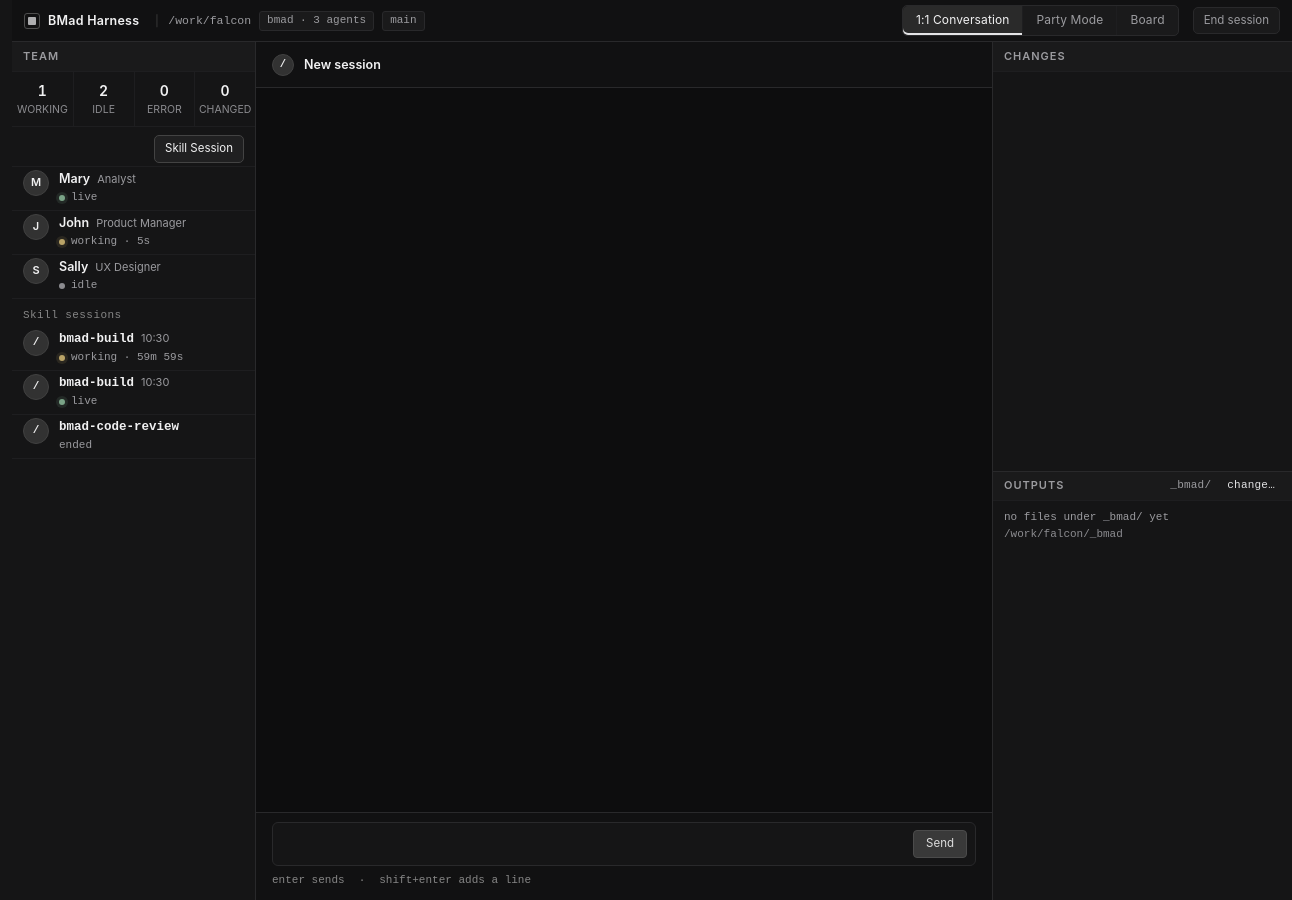
Test: the three kinds of thread, in the whole App (Stories 7.4 and 7.5) › draws a persona’s run card in that persona’s thread alone, and no run of a persona in a skill’s thread or of a skill in a persona’s
(page scrolled)
Click the button "J John Product Manager working · 5s".
click(134, 233)  # box [12,211,255,255]
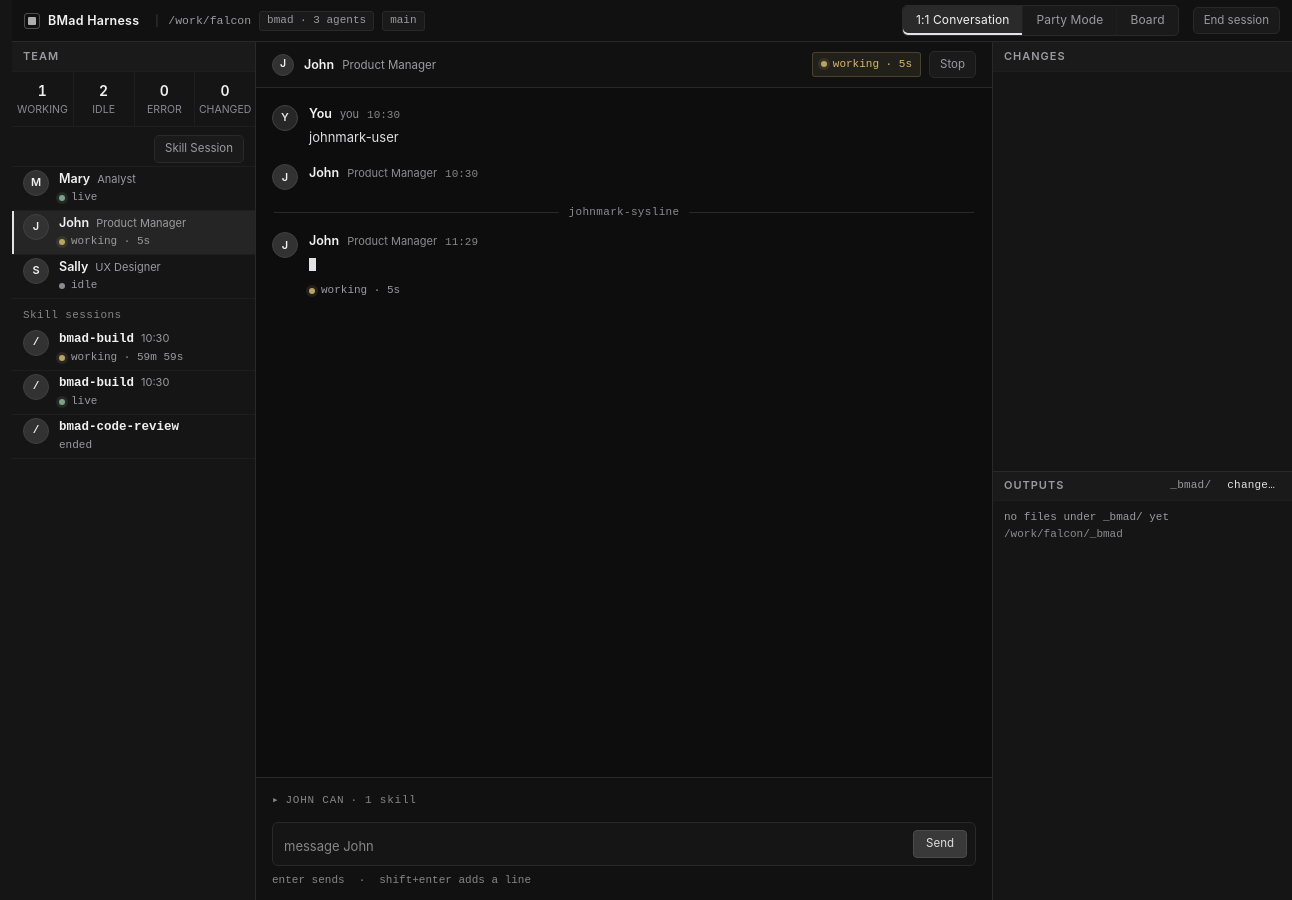
Click the button "M Mary Analyst live".
click(134, 189)  # box [12,167,255,211]
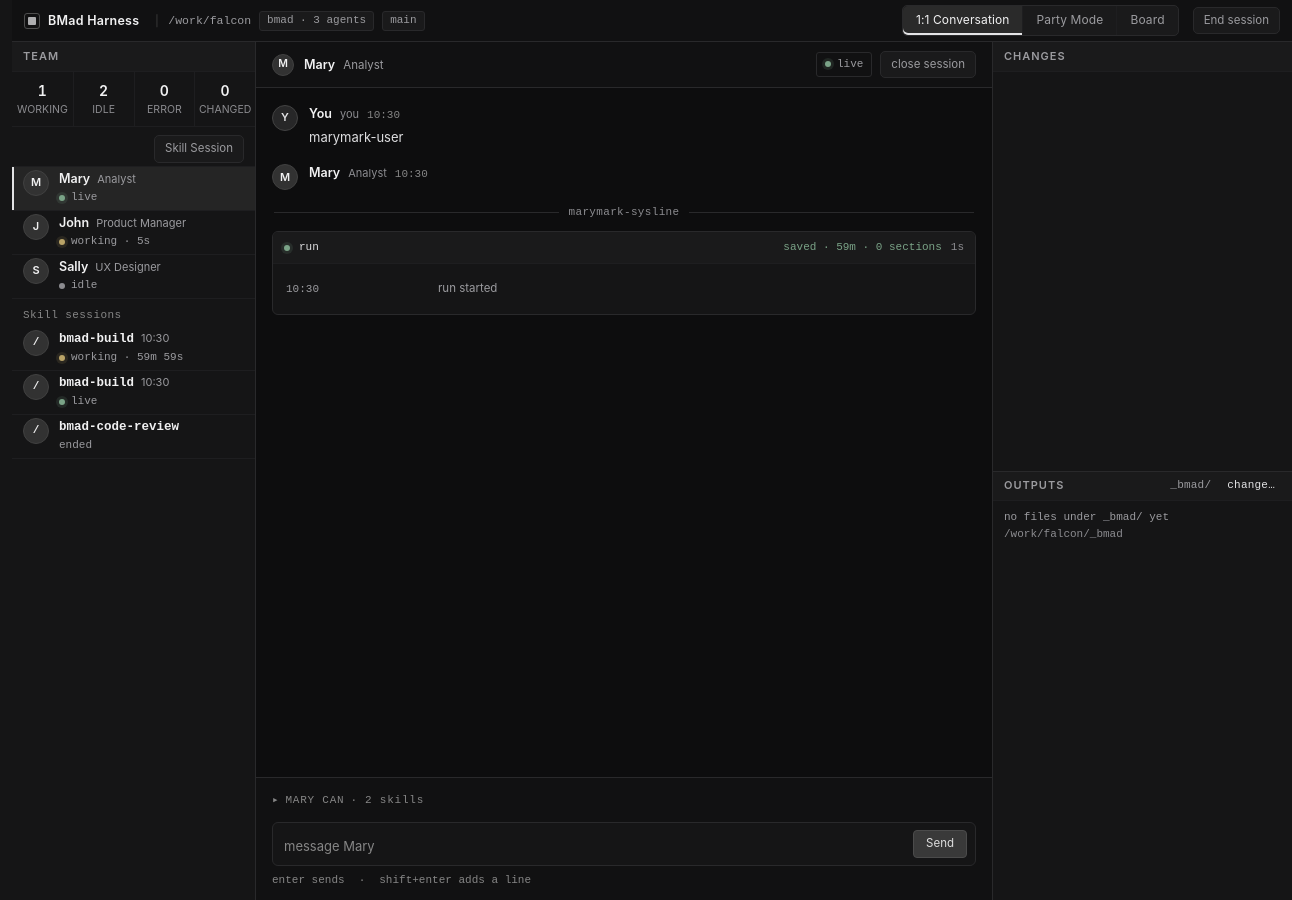
Expected: the text "bmad-build" is not shown
Expected: the text "bmad-build-auto" is not shown
Click the button "/ bmad-build 10:30 working · 59m 59s".
click(134, 349)  # box [12,327,255,371]
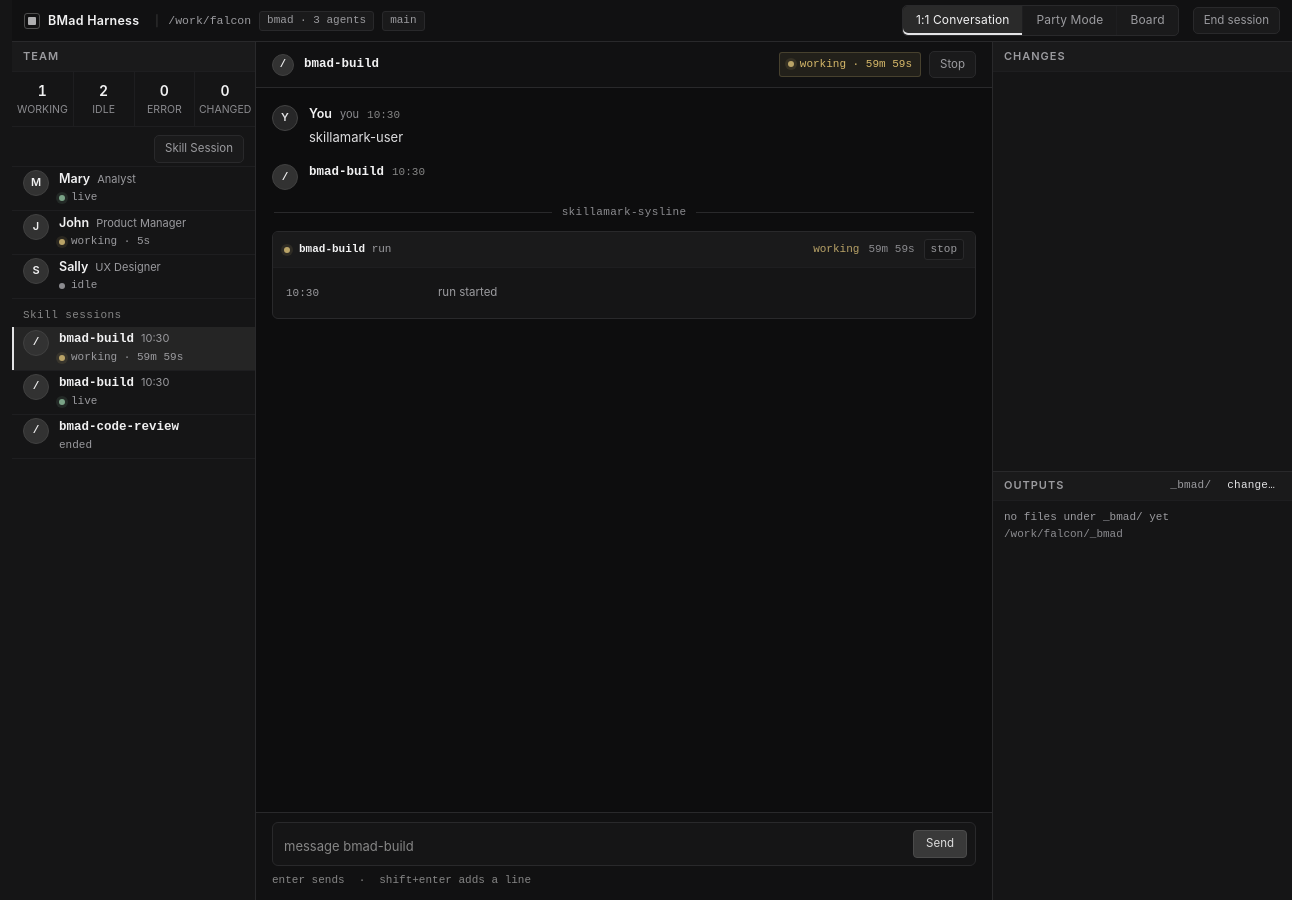
Expected: the element with class "thread" does not show "Mary"
Click the button "/ bmad-build 10:30 live".
click(134, 393)  # box [12,371,255,415]
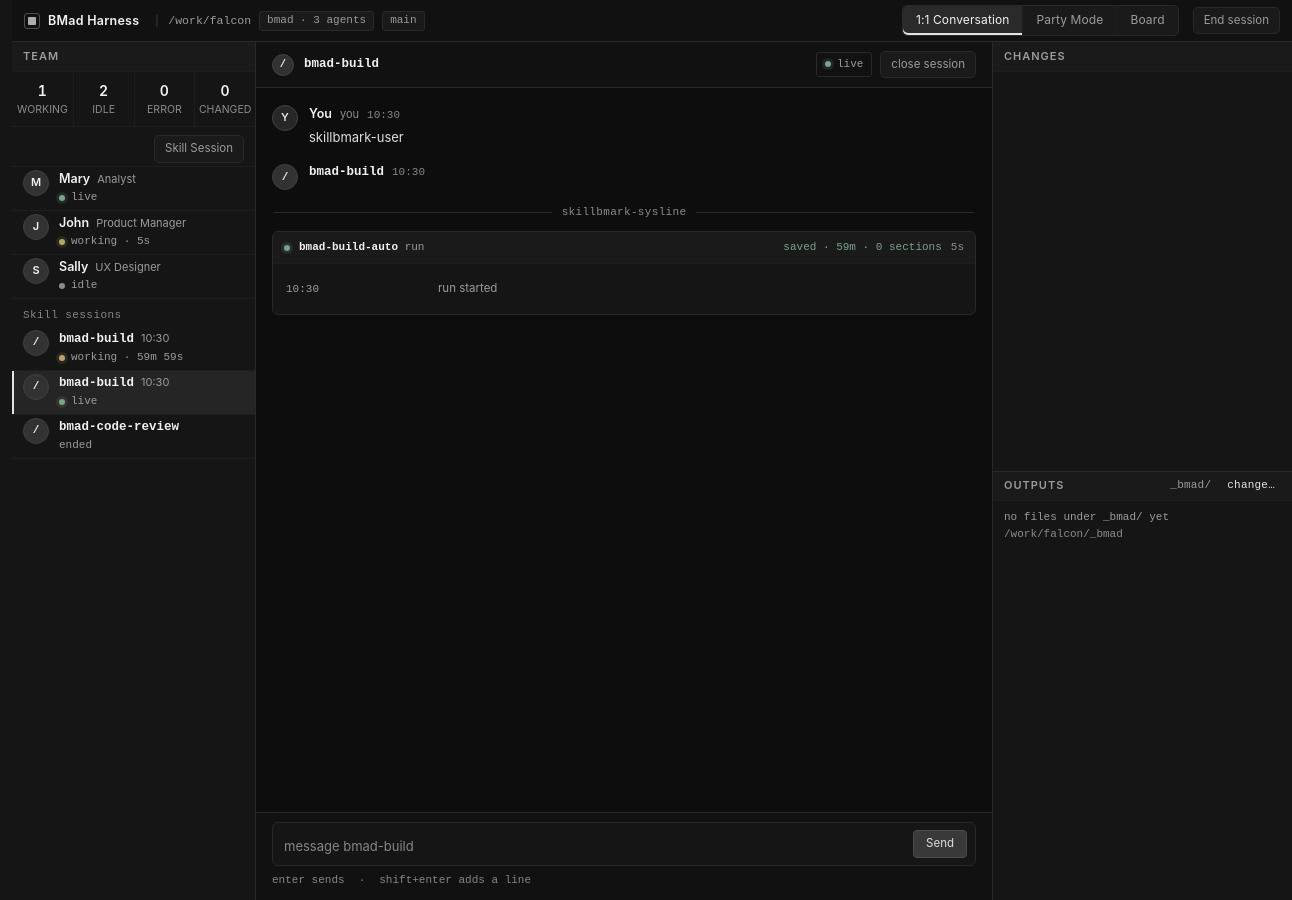
Expected: the element with class "run-card" shows "bmad-build-auto", [299,241,398,253]
Expected: the element with class "run-card" no longer shows "bmad-build run"
